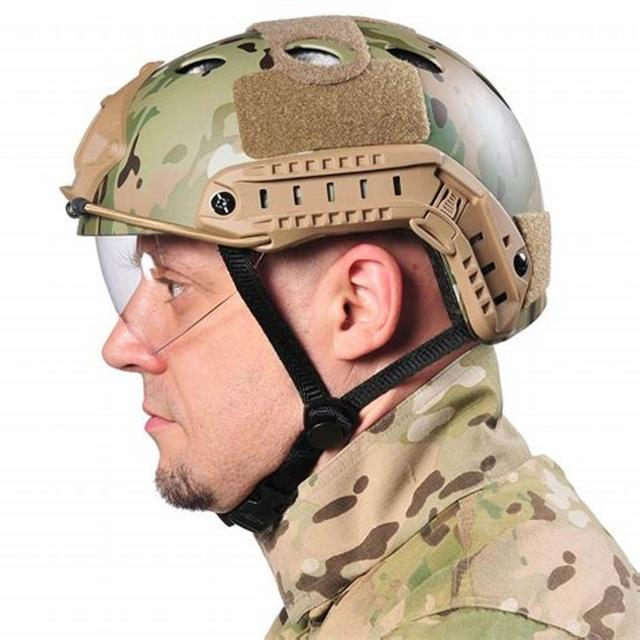illegal_helmet: (54, 4, 564, 538)
